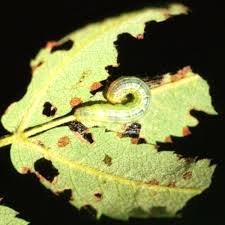Caterpillar: (68, 71, 154, 132)
